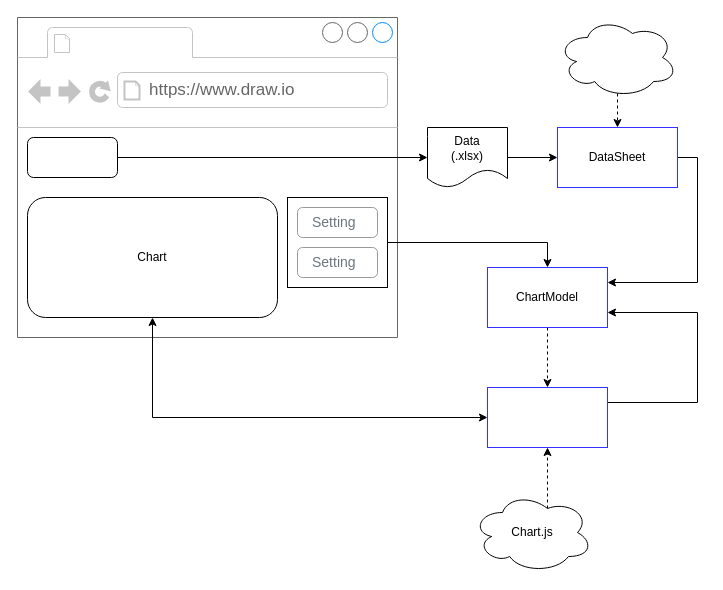
This 723x590 diagram has some shape labels left out. The box of each missing label's shape, as (x1, y1, x2, y2) in pixels:
DeposeChart: (486, 386, 608, 448)
Page 1: (76, 28, 188, 56)
Sheet.js: (556, 16, 678, 98)
Upload Button: (26, 136, 118, 178)
